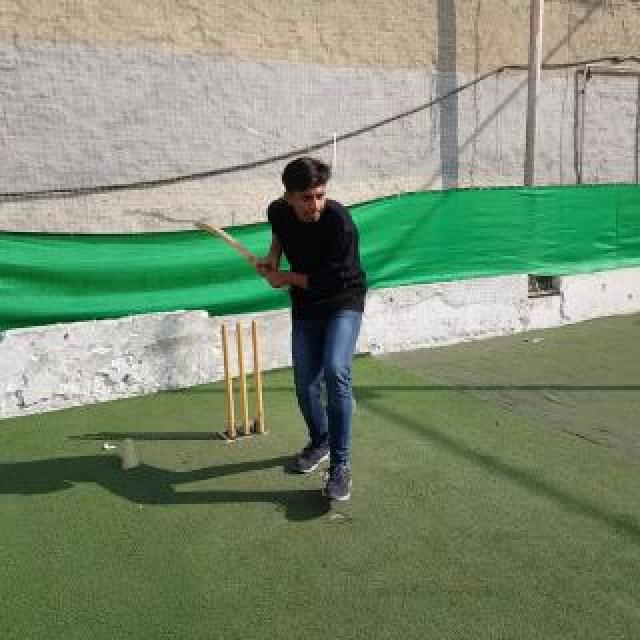bat: (192, 220, 294, 294)
